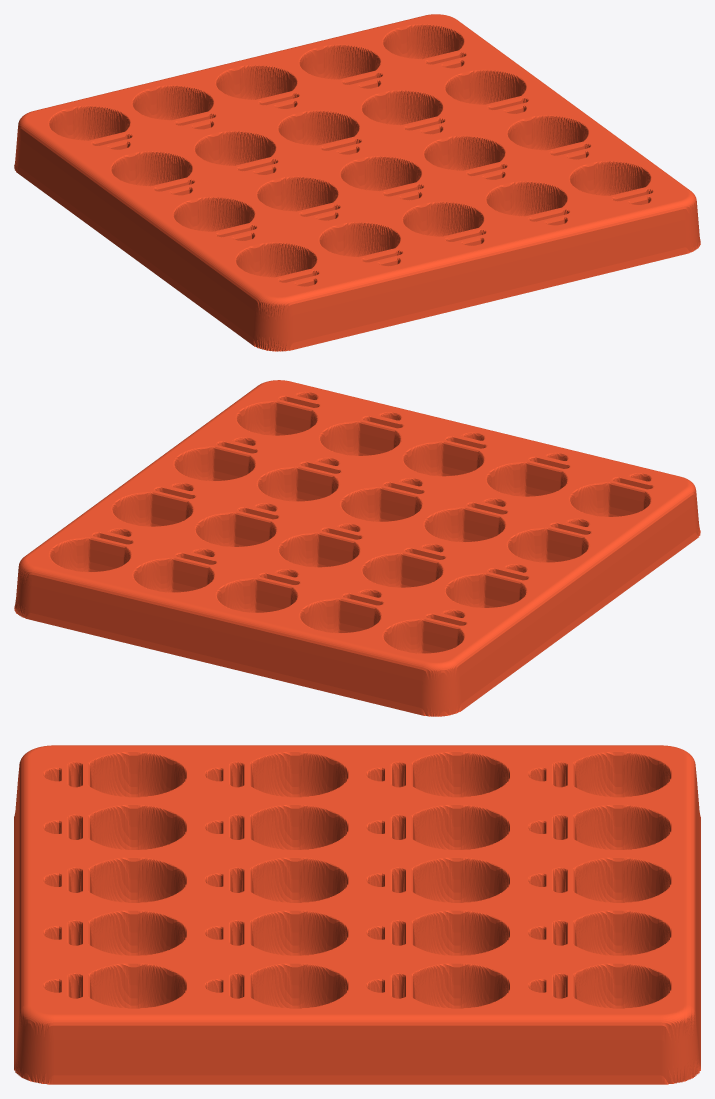
The model's file is mold.glb.
The picture shows the model from 3 angles, top to bottom: view 1: azimuth 30°, elevation 25°; view 2: azimuth 150°, elevation 25°; view 3: azimuth 270°, elevation 25°; orthographic projection. The views are drawn at different scales.
Parts seen in each view (by area): view 1: geometry_0; view 2: geometry_0; view 3: geometry_0.
Part boxes in pixels (bbox=[...]): geometry_0: bbox=[14, 14, 700, 351]; geometry_0: bbox=[14, 380, 700, 716]; geometry_0: bbox=[14, 745, 700, 1084].
Size of the model in its own units: 0.1515 by 0.0159 by 0.1563.
